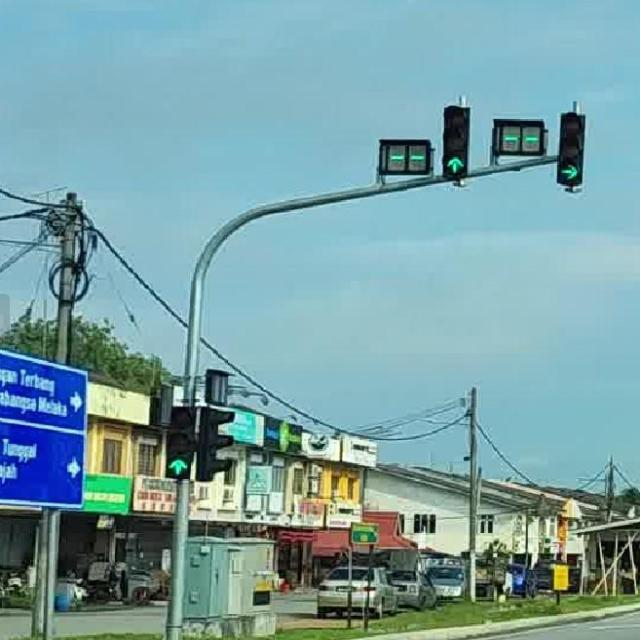car: (317, 566, 399, 620)
traffic light: (197, 407, 235, 483), (556, 113, 586, 191), (165, 406, 195, 481), (442, 106, 471, 178), (165, 429, 194, 481)
